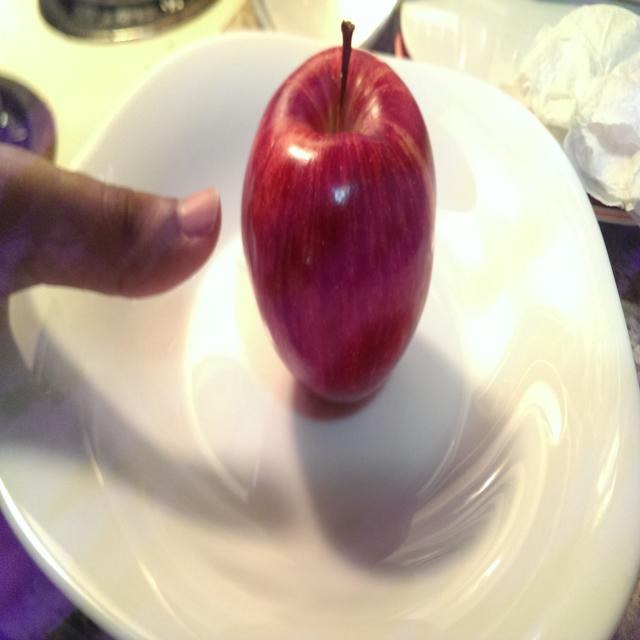apple: (234, 14, 444, 428)
